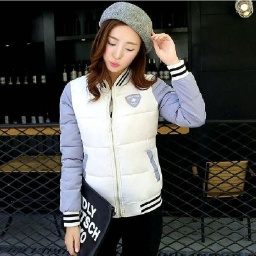face: (84, 18, 154, 81)
